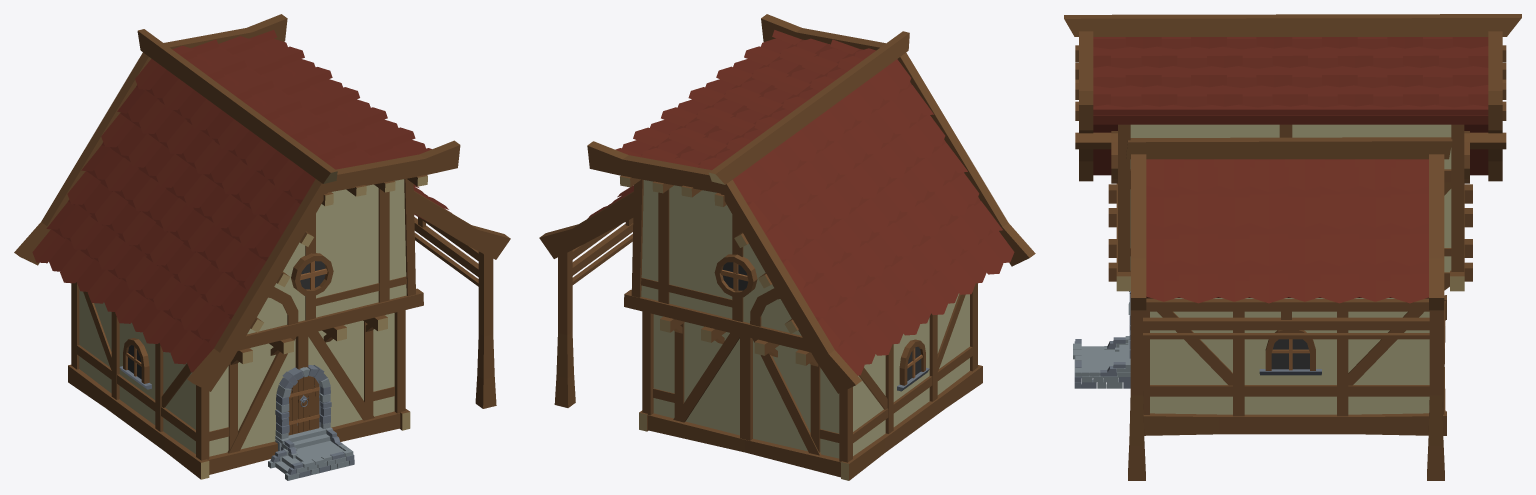
Rendered from Casa_porcheModel.fbx.
3 renders of one model, left to right at view 1: azimuth 30°, elevation 25°; view 2: azimuth 150°, elevation 25°; view 3: azimuth 270°, elevation 25°, orthographic. The views are drawn at different scales.
Visible parts, largest first — view 1: Sawmill; view 2: Sawmill; view 3: Sawmill.
Part boxes in pixels (<box>): Sawmill: <box>14,14,510,480</box>; Sawmill: <box>539,14,1035,480</box>; Sawmill: <box>1064,14,1521,480</box>.
Bounding box in the file's own units: 1000 × 854 × 985.
